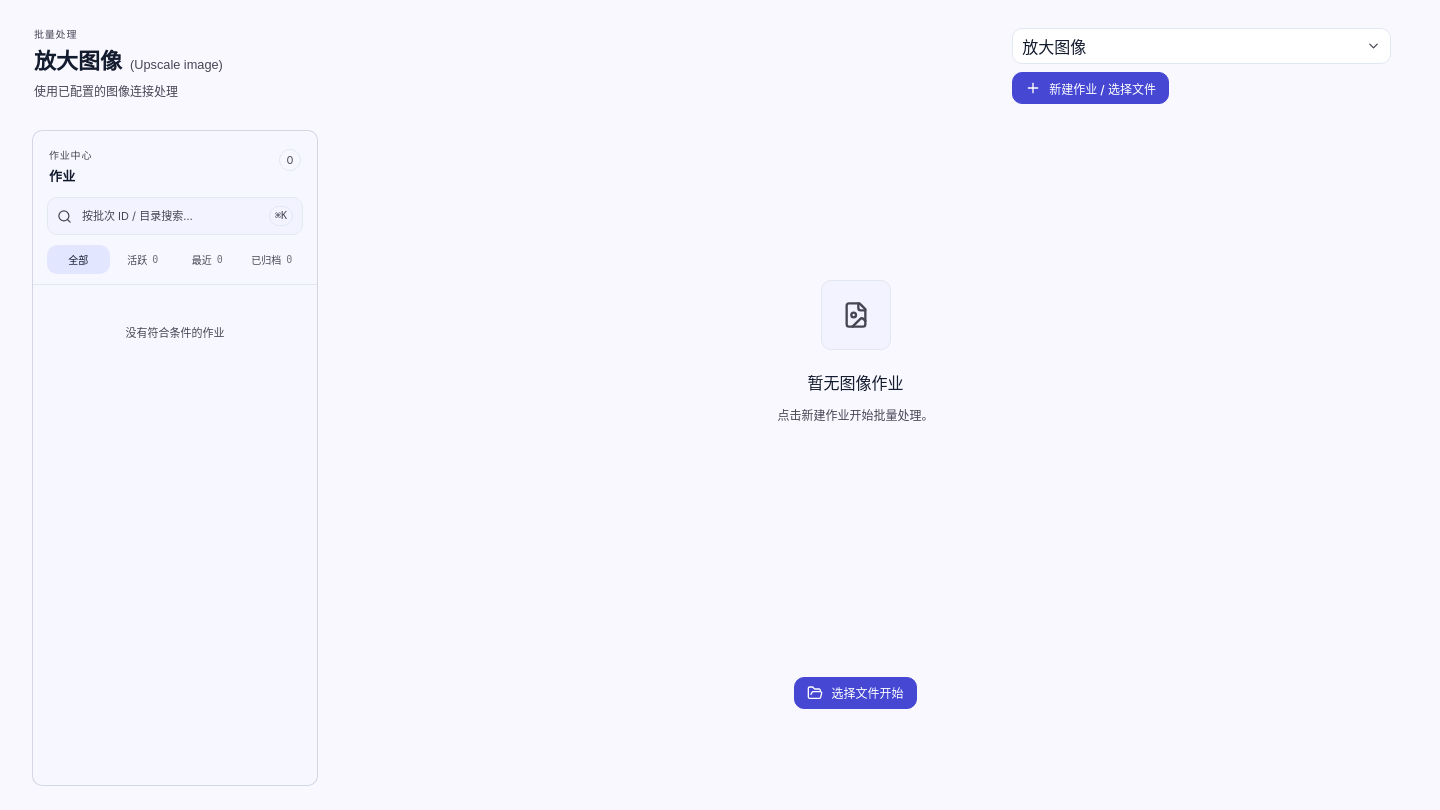
Test: shows only the fixed tool parameters in the new job drawer
This screenshot has width=1440, height=810.
Step 1. Click the button "新建作业 / 选择文件" → (1091, 88), box [1012,72,1169,104]
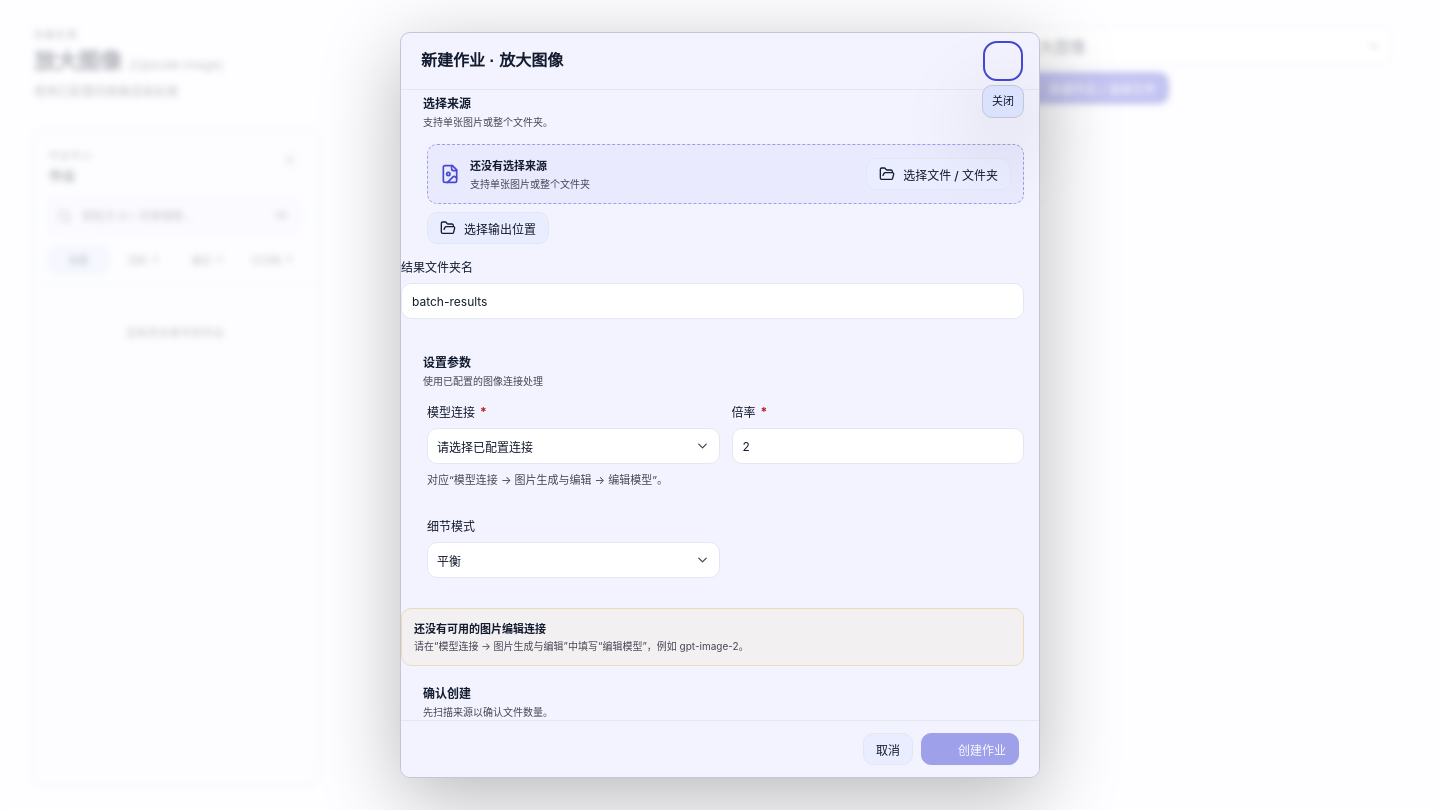
Expected: the dialog "新建作业" is shown, [400,32,1040,778]
Expected: the number field labelled "倍率" is shown, [732,428,1024,464]
